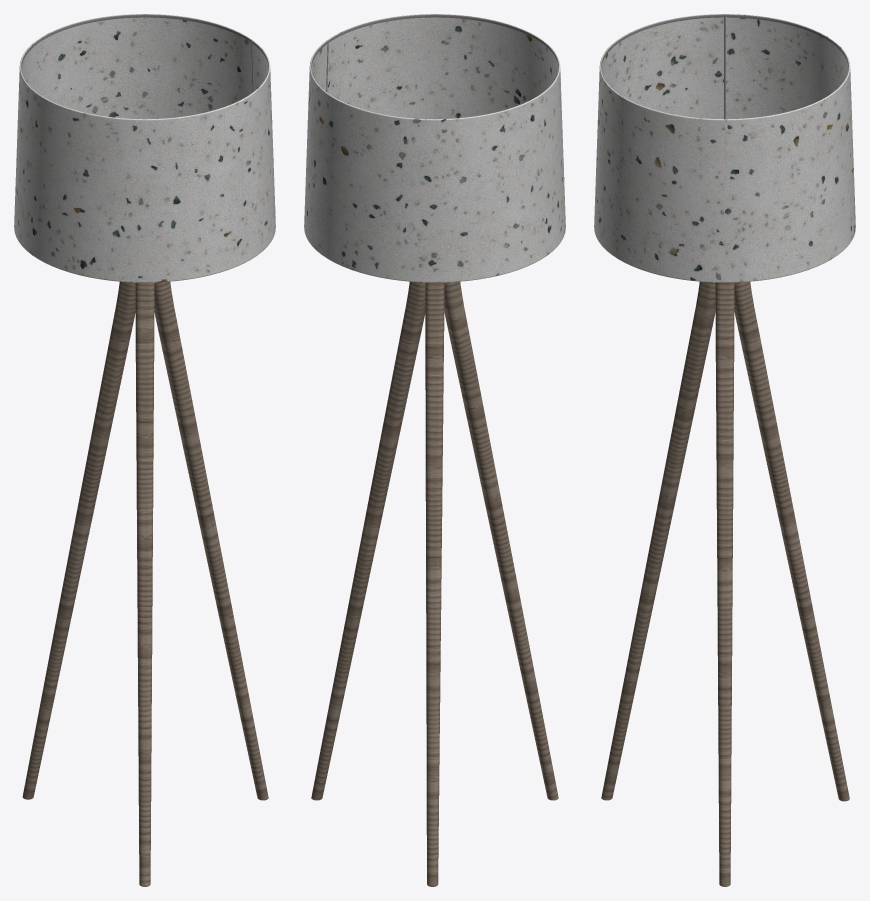
File: lamp.glb
3 views of the same model, side by side, from view 1: azimuth 30°, elevation 25°; view 2: azimuth 150°, elevation 25°; view 3: azimuth 270°, elevation 25° (orthographic).
Parts seen in each view (by area): view 1: cover_mesh_n3d, leg_003_mesh_n3d, leg_001_mesh_n3d, leg_002_mesh_n3d, frame_mesh_n3d; view 2: cover_mesh_n3d, leg_002_mesh_n3d, leg_001_mesh_n3d, leg_003_mesh_n3d, frame_mesh_n3d; view 3: cover_mesh_n3d, leg_001_mesh_n3d, leg_002_mesh_n3d, leg_003_mesh_n3d, frame_mesh_n3d.
Part boxes in pixels (box(x1,y1,x2,y2)): cover_mesh_n3d: box(14, 14, 275, 282); leg_003_mesh_n3d: box(135, 282, 154, 886); leg_001_mesh_n3d: box(154, 281, 268, 800); leg_002_mesh_n3d: box(22, 281, 135, 799); frame_mesh_n3d: box(21, 14, 268, 93); cover_mesh_n3d: box(304, 14, 565, 282); leg_002_mesh_n3d: box(425, 282, 444, 886); leg_001_mesh_n3d: box(311, 281, 425, 800); leg_003_mesh_n3d: box(444, 281, 558, 800); frame_mesh_n3d: box(311, 14, 558, 93); cover_mesh_n3d: box(594, 14, 855, 282); leg_001_mesh_n3d: box(715, 282, 734, 886); leg_002_mesh_n3d: box(734, 281, 849, 801); leg_003_mesh_n3d: box(601, 281, 715, 800); frame_mesh_n3d: box(601, 14, 848, 119).
Bounding box in the file's own units: 0.492 × 1.51 × 0.472.
6 materials, 2 textured.
